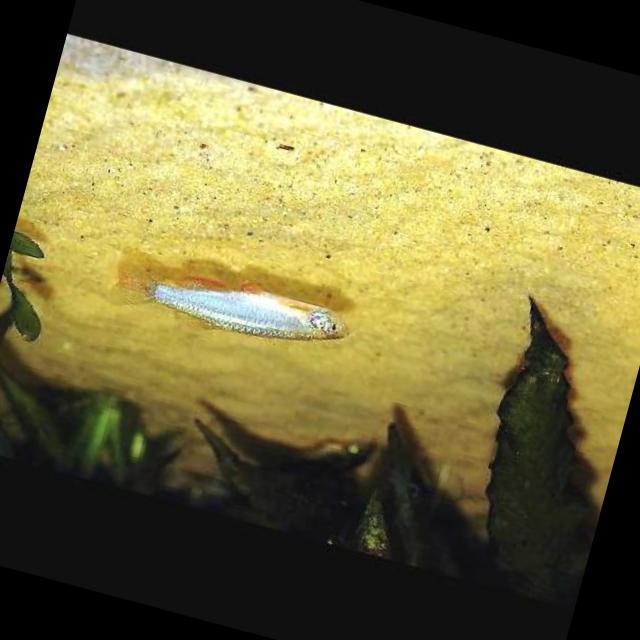ZebraFish: (102, 250, 346, 368)
